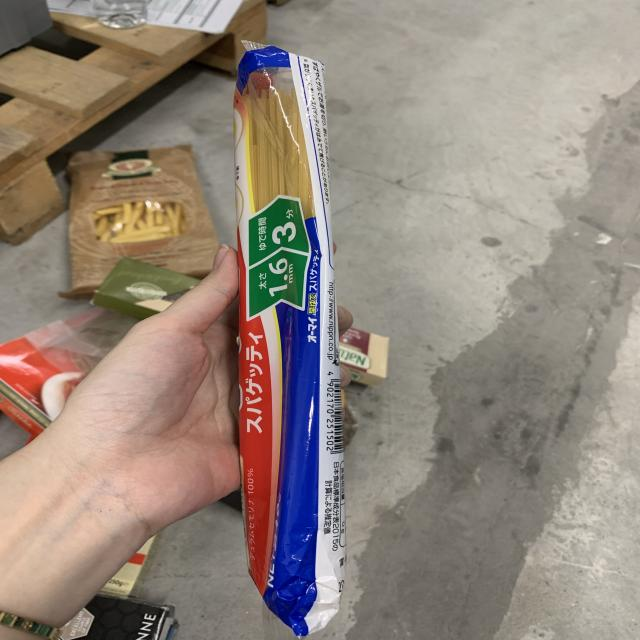object_name: (236, 51, 345, 623)
